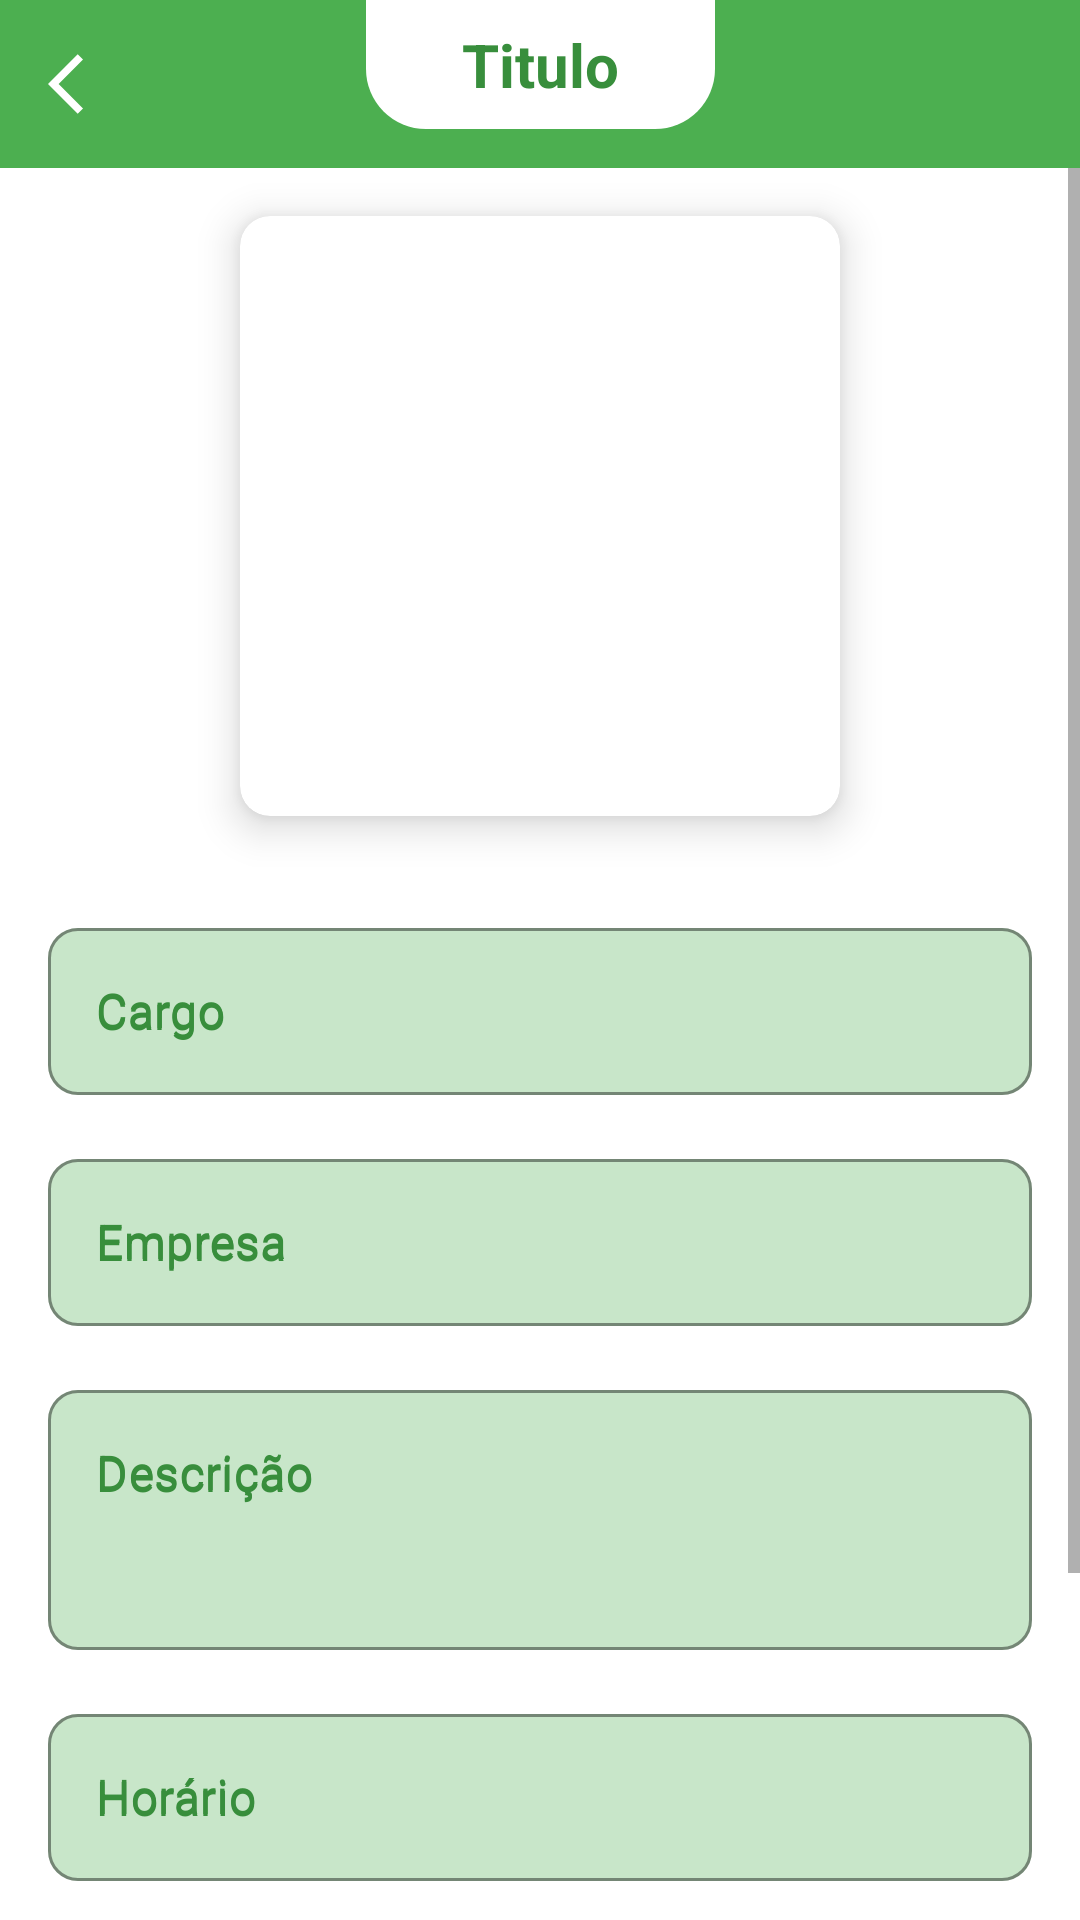

Icons on this 1080px x 1920px Android screen, each with its box as (x1, y1, x2, y2):
voltar: (48, 54, 83, 114)
